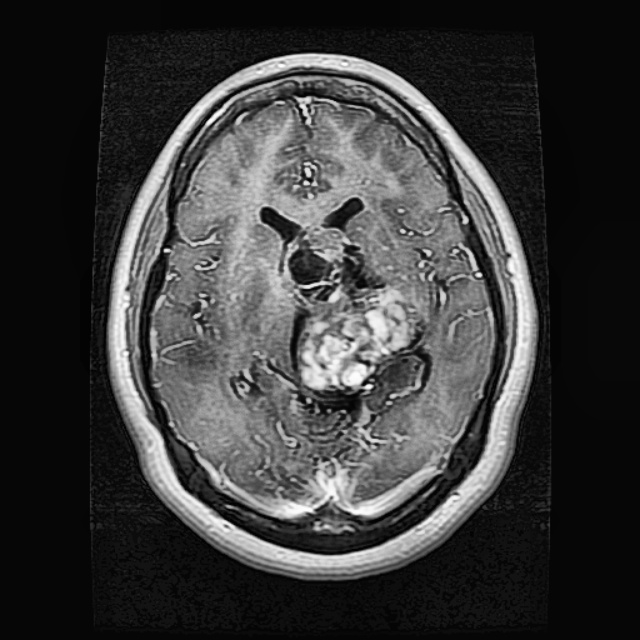Glioma: (292, 279, 423, 392)
